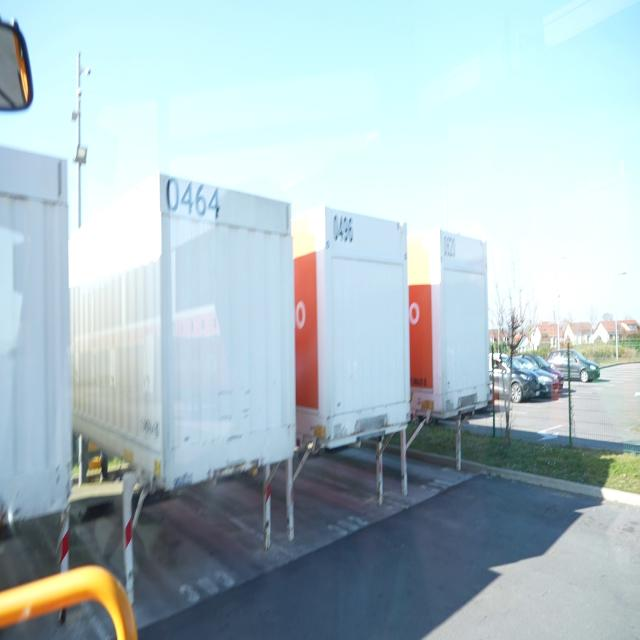Code: (161, 170, 222, 229), (328, 206, 357, 250)
